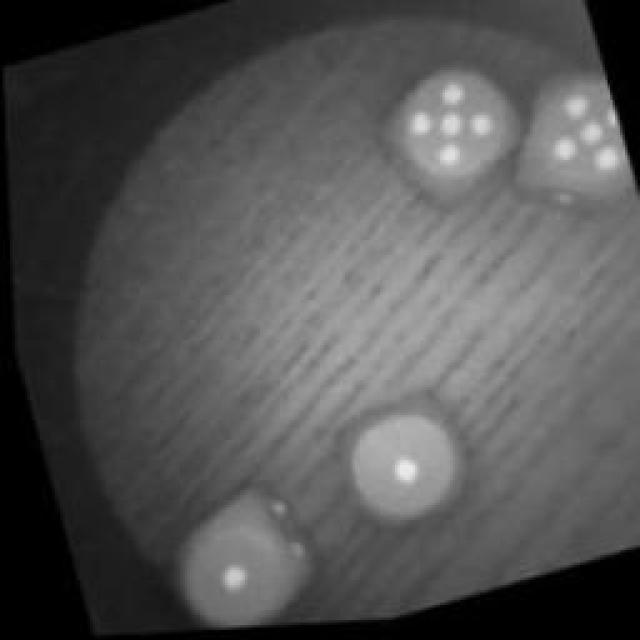dice_1: (124, 468, 331, 634), (311, 376, 491, 559)
dice_5: (362, 43, 538, 225), (482, 56, 638, 242)
